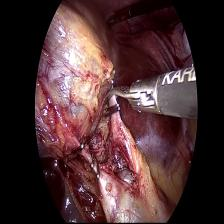Scissors: (99, 75, 164, 113), (103, 7, 134, 30)
